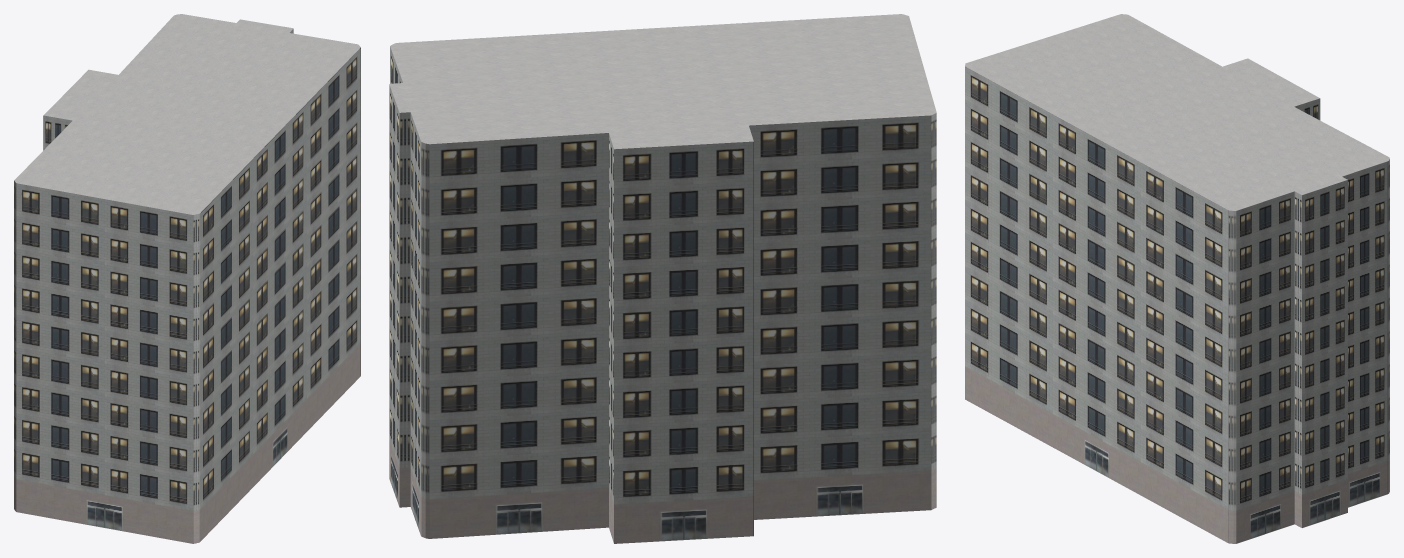
3 renders of one model, left to right at view 1: azimuth 30°, elevation 25°; view 2: azimuth 150°, elevation 25°; view 3: azimuth 270°, elevation 25°, orthographic. The views are drawn at different scales.
Visible parts, largest first — view 1: BuildingMaster_1984193608364464569700000000_0, BuildingMaster_1984193608364464569700000000_1; view 2: BuildingMaster_1984193608364464569700000000_0, BuildingMaster_1984193608364464569700000000_1; view 3: BuildingMaster_1984193608364464569700000000_0, BuildingMaster_1984193608364464569700000000_1.
Part boxes in pixels (box(x1,y1,x2,y2)): BuildingMaster_1984193608364464569700000000_0: box(14, 29, 360, 543); BuildingMaster_1984193608364464569700000000_1: box(14, 14, 360, 214); BuildingMaster_1984193608364464569700000000_0: box(389, 46, 936, 543); BuildingMaster_1984193608364464569700000000_1: box(389, 14, 936, 149); BuildingMaster_1984193608364464569700000000_0: box(965, 66, 1389, 543); BuildingMaster_1984193608364464569700000000_1: box(965, 14, 1389, 210).
Bounding box in the file's own units: 44.4 × 35 × 40.48.
2 materials, 2 textured.
